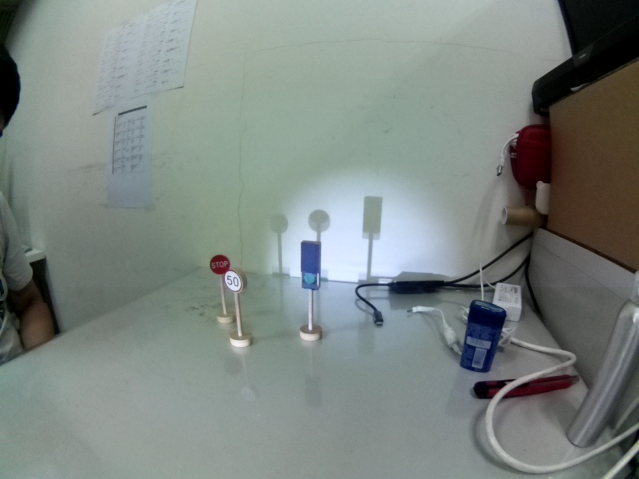Green: (299, 239, 320, 289)
Speed50: (224, 269, 249, 296)
Stop: (210, 252, 231, 277)
